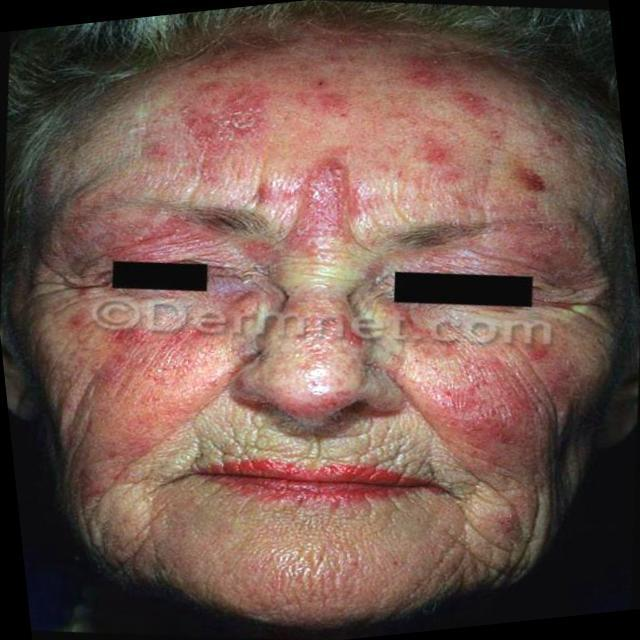skinredness: (2, 0, 626, 558)
